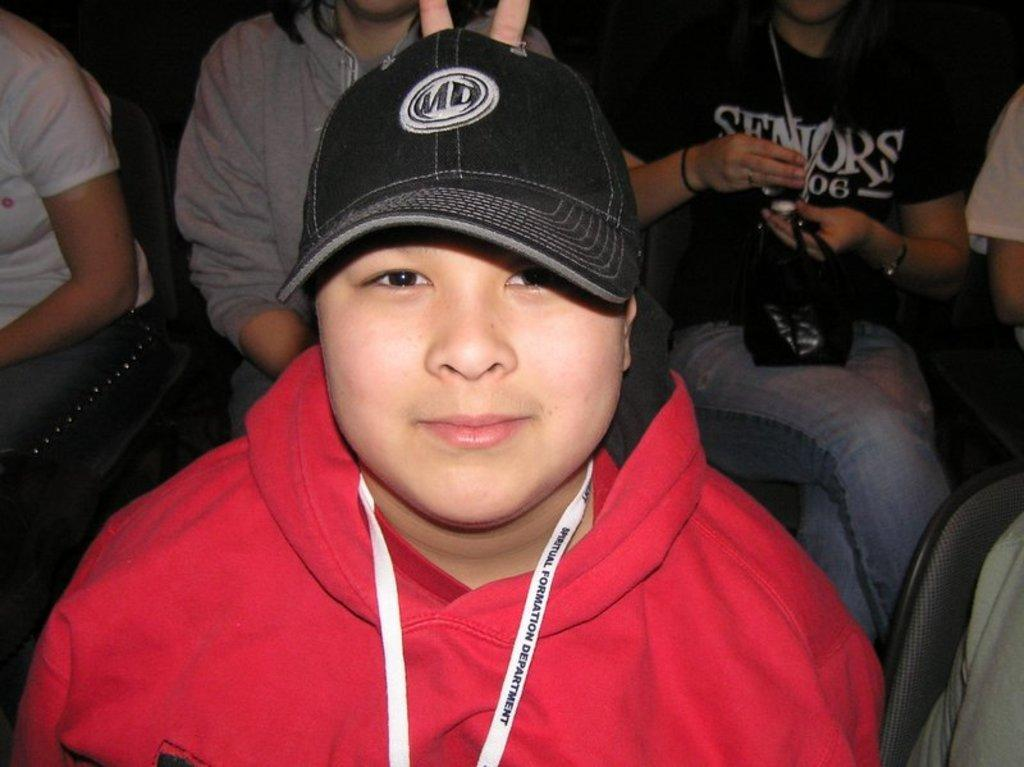Hat: (276, 23, 647, 306)
